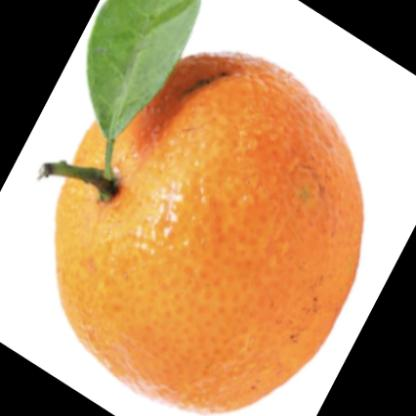fresh: (58, 47, 363, 416)
